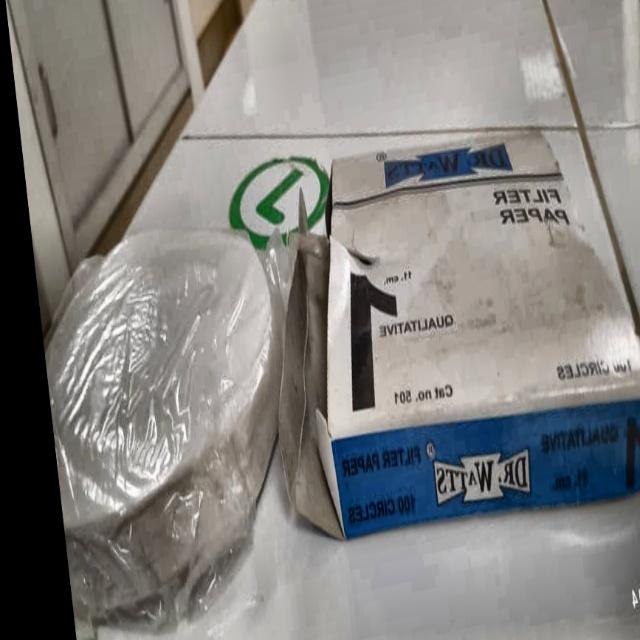Filter paper: (38, 110, 632, 634)
